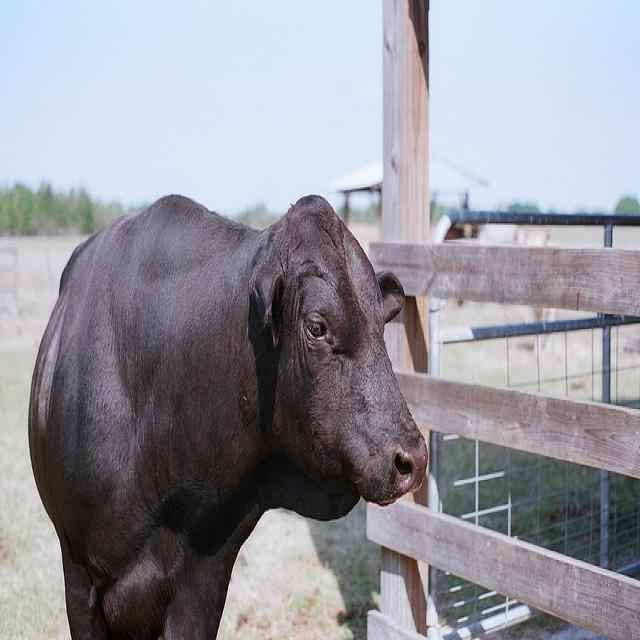cow: (26, 192, 428, 639)
